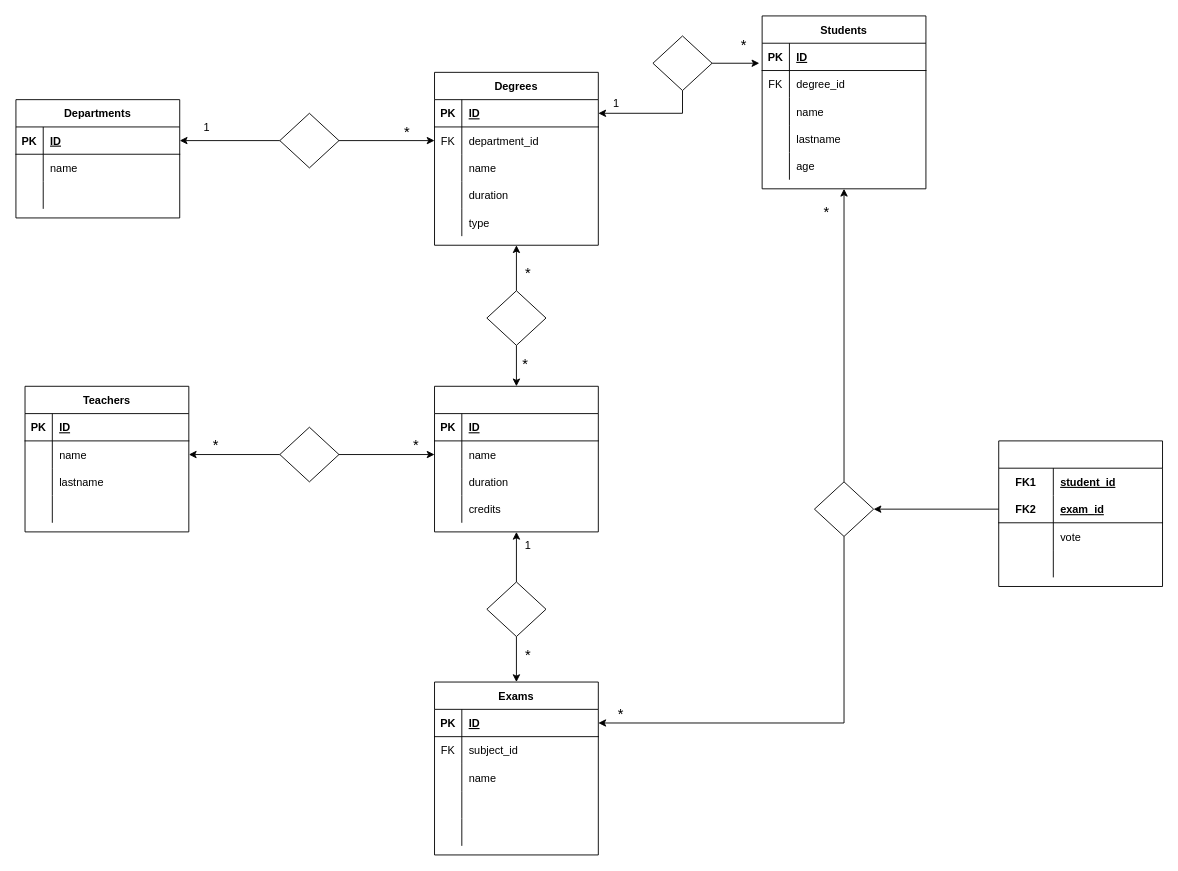
This 1178x871 diagram has some shape labels left out. The shapes that lost their labels are listed below. From the top down, each one's box as (x1, y1, x2, y2) in pixels, then its label:
(434, 385, 598, 532): Subjects
(998, 440, 1163, 586): student_exam
